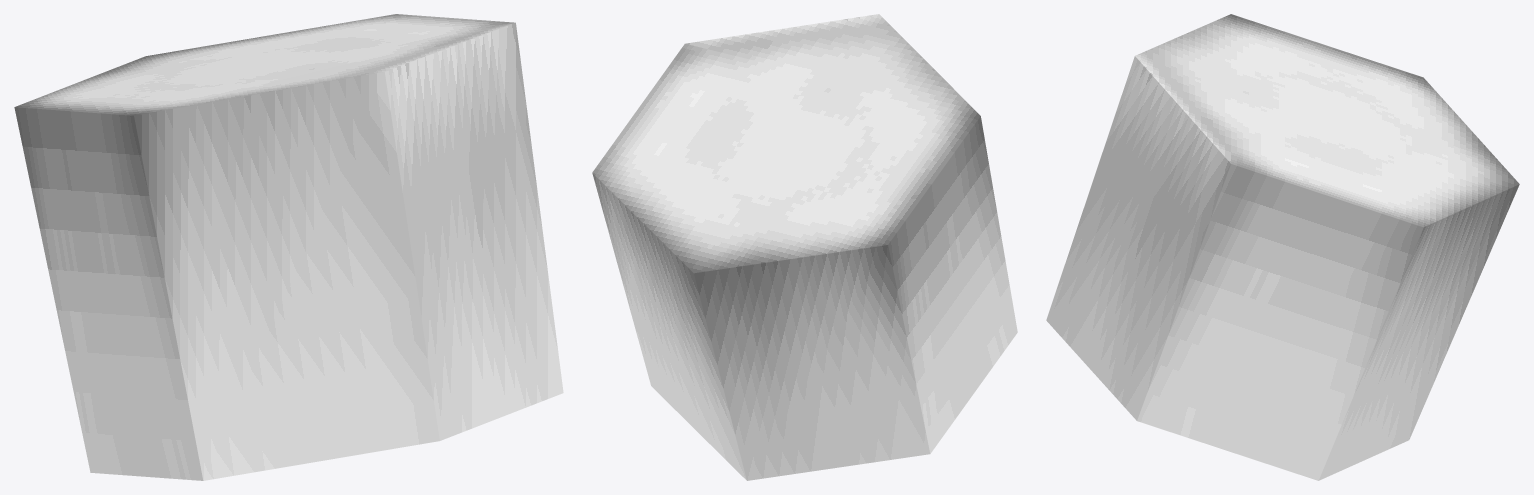
Rendered from buttonup.glb.
3 views of the same model, side by side, from view 1: azimuth 30°, elevation 25°; view 2: azimuth 150°, elevation 25°; view 3: azimuth 270°, elevation 25° (orthographic). The views are drawn at different scales.
Parts seen in each view (by area): view 1: buttonup; view 2: buttonup; view 3: buttonup.
Boxes of the visible parts, box(x1,y1,x2,y2) form: buttonup: box(14, 14, 563, 480); buttonup: box(592, 14, 1017, 480); buttonup: box(1046, 14, 1519, 480).
Size of the model in its own units: 21.47 by 25.67 by 28.67.
Materials: 1 (1 with a texture image).
